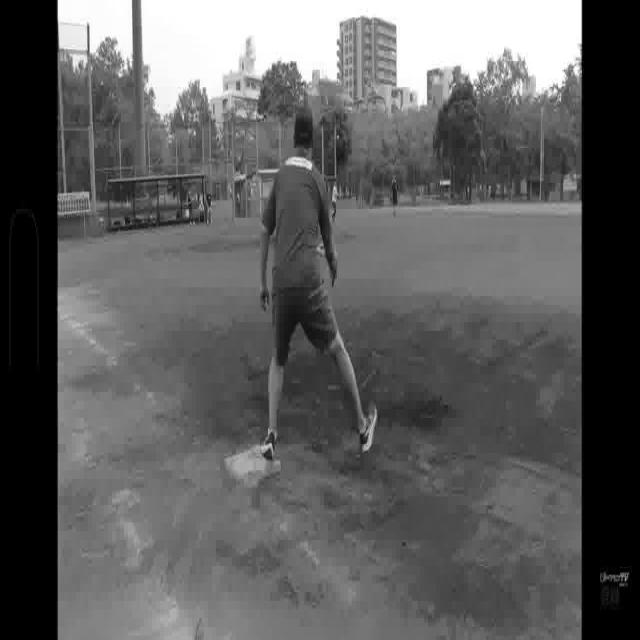base: (222, 449, 283, 483)
baseball: (336, 134, 339, 140)
shoe: (357, 402, 378, 463), (261, 424, 280, 465)
